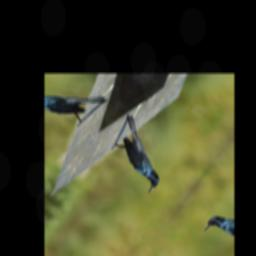Crow: (96, 113, 185, 195)
